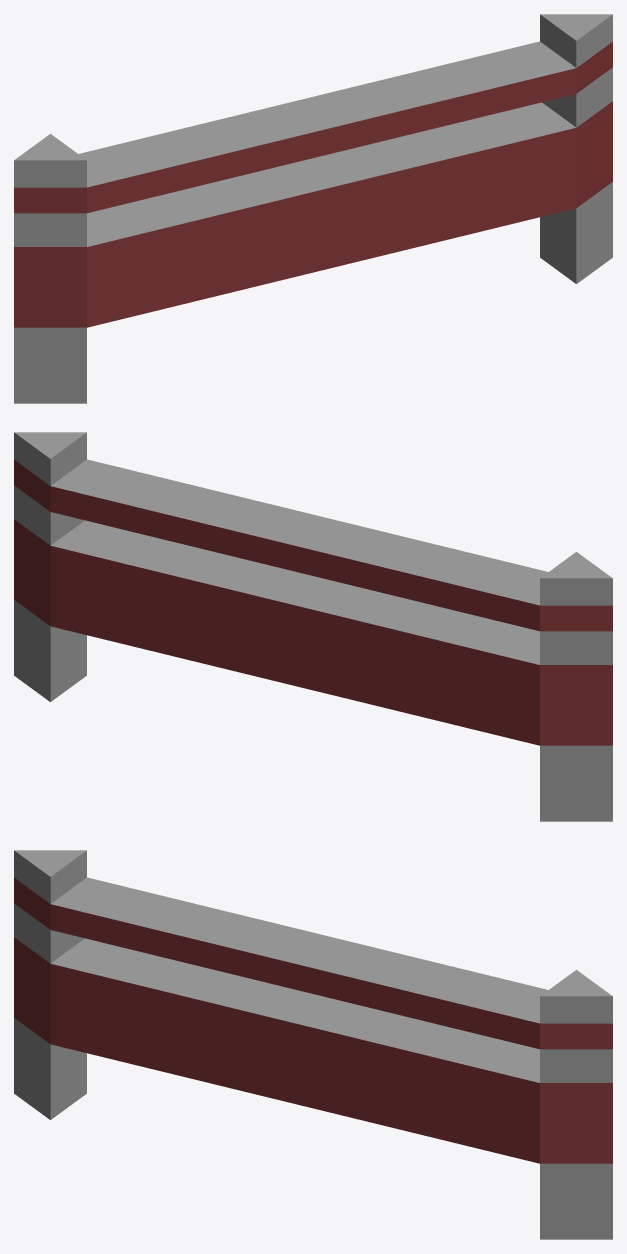
Rendered from APRailF.fbx.
The picture shows the model from 3 angles, top to bottom: view 1: azimuth 30°, elevation 25°; view 2: azimuth 150°, elevation 25°; view 3: azimuth 330°, elevation 25°; orthographic projection.
Visible parts, largest first — view 1: APRailF; view 2: APRailF; view 3: APRailF.
Boxes of the visible parts, left/top/right/bottom form: APRailF: left=14, top=14, right=612, bottom=403; APRailF: left=14, top=432, right=612, bottom=821; APRailF: left=14, top=850, right=612, bottom=1239.
Bounding box in the file's own units: 264 × 103 × 27.91.
Materials: 1 (1 with a texture image).
